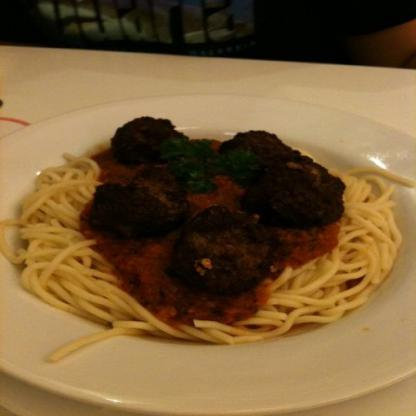pasta: (0, 130, 395, 340)
